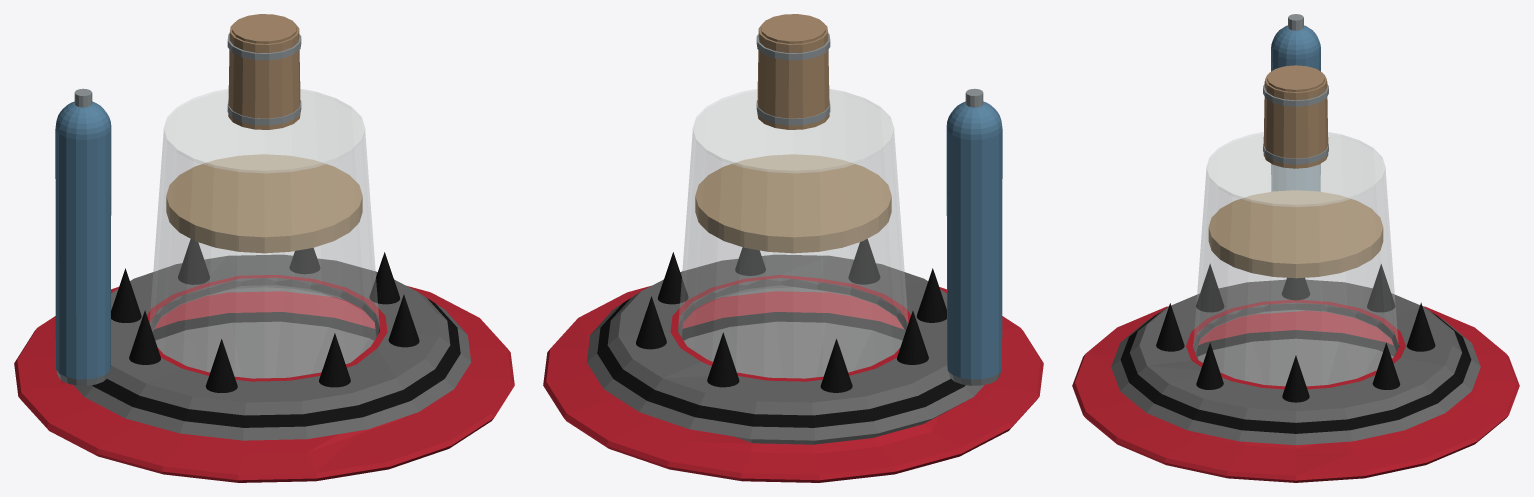
The model's file is sol6_t05.glb.
3 views of the same model, side by side, from view 1: azimuth 30°, elevation 25°; view 2: azimuth 150°, elevation 25°; view 3: azimuth 270°, elevation 25° (orthographic). The views are drawn at different scales.
Visible parts, largest first — view 1: slot_anchor_saucer, glass_cover, brown_disc, blue_cylinder, glass_top, barrel_wood, blue_shoulder, barrel_top, barrel_band_1.16, barrel_band_0.875; view 2: slot_anchor_saucer, glass_cover, brown_disc, blue_cylinder, glass_top, barrel_wood, blue_shoulder, barrel_top, barrel_band_1.16, barrel_band_0.875; view 3: slot_anchor_saucer, glass_cover, brown_disc, glass_top, barrel_wood, blue_cylinder, blue_shoulder, barrel_top, barrel_band_1.16.
Part boxes in pixels (x1,y1,x2,y2): slot_anchor_saucer: [14, 239, 514, 482]; glass_cover: [150, 91, 379, 378]; brown_disc: [166, 154, 362, 253]; blue_cylinder: [55, 128, 111, 379]; glass_top: [164, 89, 364, 173]; barrel_wood: [228, 23, 300, 129]; blue_shoulder: [55, 101, 111, 139]; barrel_top: [232, 14, 296, 43]; barrel_band_1.16: [227, 33, 301, 60]; barrel_band_0.875: [227, 99, 301, 125]; slot_anchor_saucer: [543, 239, 1043, 482]; glass_cover: [678, 91, 907, 378]; brown_disc: [695, 154, 891, 253]; blue_cylinder: [946, 128, 1002, 379]; glass_top: [693, 89, 893, 173]; barrel_wood: [757, 23, 829, 129]; blue_shoulder: [946, 101, 1002, 139]; barrel_top: [761, 14, 825, 43]; barrel_band_1.16: [756, 33, 830, 60]; barrel_band_0.875: [756, 99, 830, 125]; slot_anchor_saucer: [1072, 264, 1519, 482]; glass_cover: [1193, 134, 1398, 385]; brown_disc: [1208, 190, 1383, 278]; glass_top: [1206, 132, 1385, 206]; barrel_wood: [1263, 74, 1328, 168]; blue_cylinder: [1271, 50, 1320, 191]; blue_shoulder: [1271, 25, 1320, 59]; barrel_top: [1267, 65, 1324, 91]; barrel_band_1.16: [1263, 84, 1328, 106].
Bounding box in the file's own units: 2 × 1.86 × 2.
6 materials, 1 textured.
